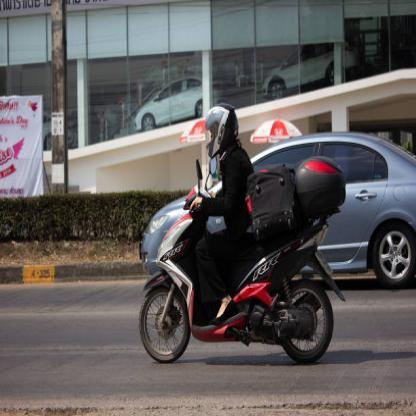Motorcycle: (131, 175, 341, 367)
